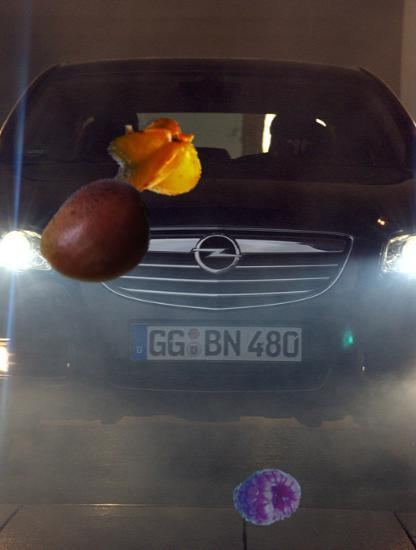Carambula: (104, 112, 201, 209)
Mango: (38, 177, 153, 292)
Raspberry: (235, 464, 302, 531)
